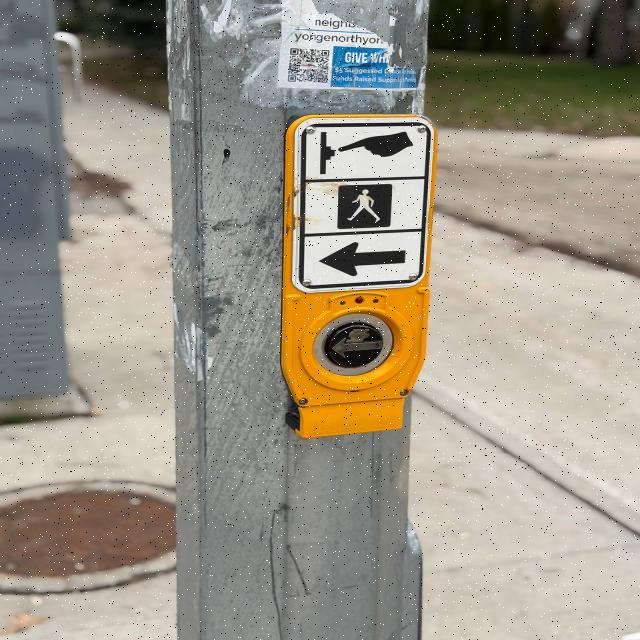Electrical Pole: (168, 0, 448, 637)
